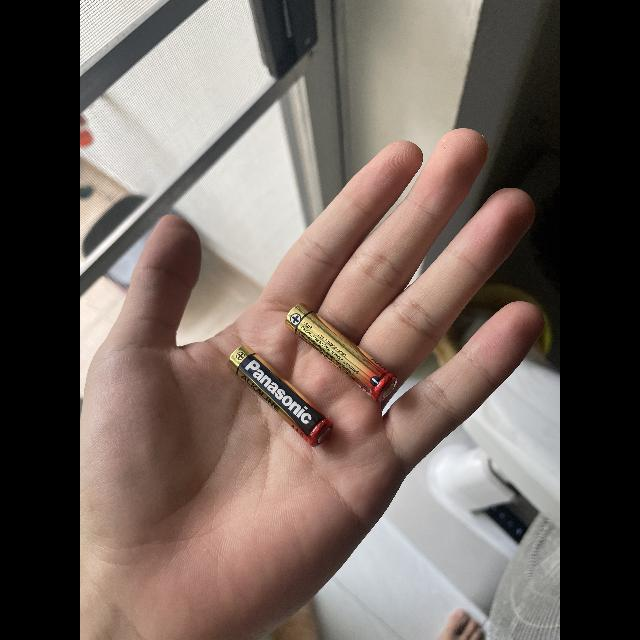battery: (285, 303, 399, 404), (230, 345, 336, 448)
